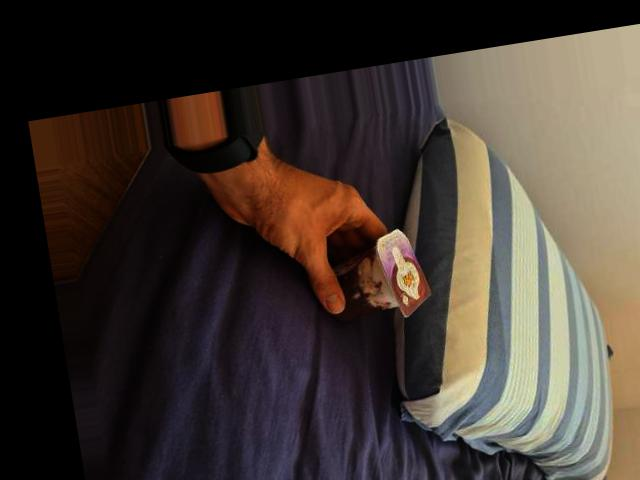milky: (316, 230, 437, 327)
